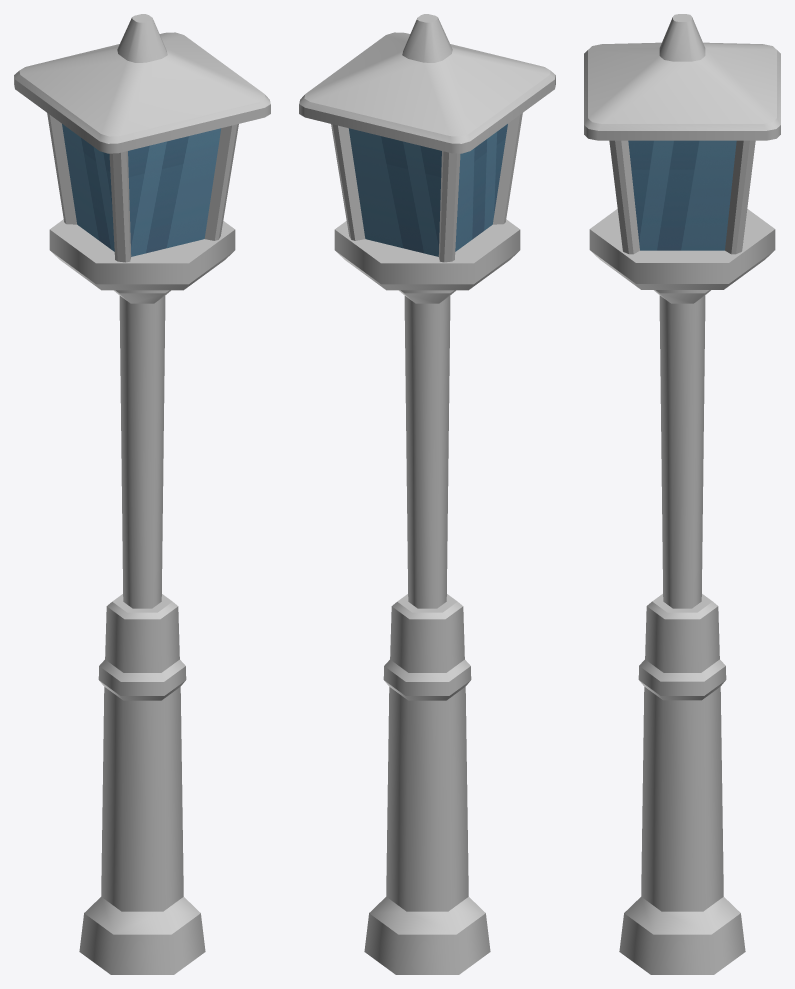
Rendered from StreetLamp_3_B.fbx.
3 renders of one model, left to right at view 1: azimuth 30°, elevation 25°; view 2: azimuth 150°, elevation 25°; view 3: azimuth 270°, elevation 25°, orthographic.
Parts seen in each view (by area): view 1: StreetLamp_3_B; view 2: StreetLamp_3_B; view 3: StreetLamp_3_B.
Boxes of the visible parts, left/top/right/bottom form: StreetLamp_3_B: left=14, top=14, right=270, bottom=974; StreetLamp_3_B: left=299, top=14, right=555, bottom=974; StreetLamp_3_B: left=584, top=14, right=780, bottom=974.
Size of the model in its own units: 74.08 by 388 by 74.08.
